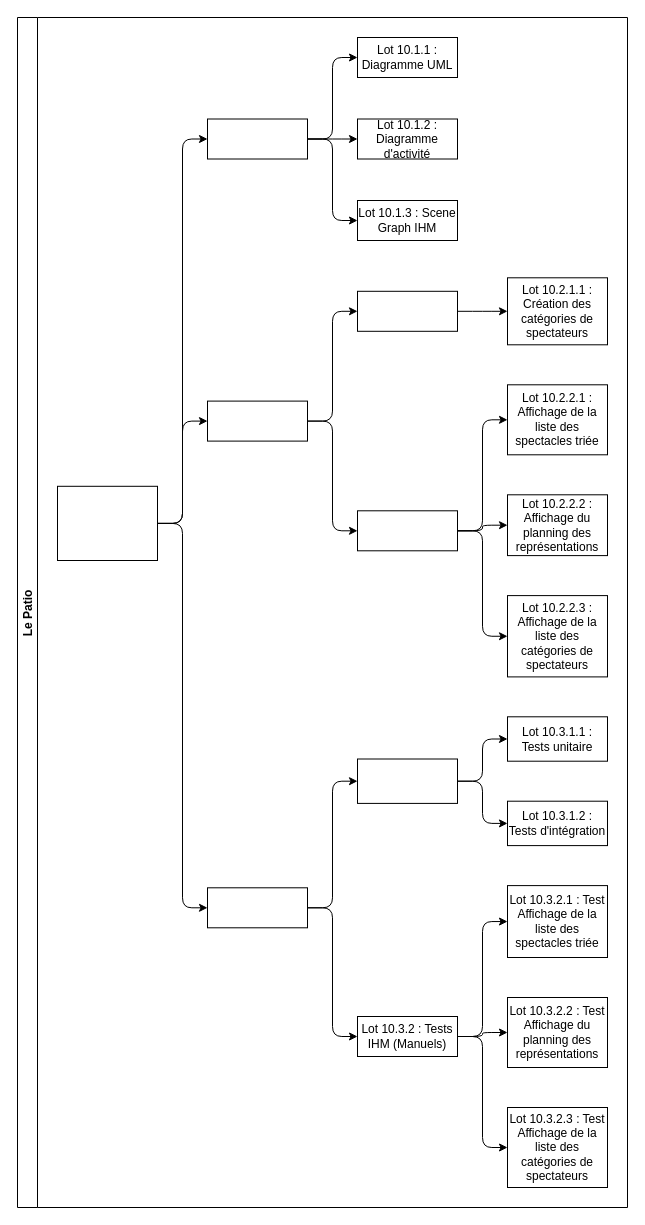
This 645x1225 diagram has some shape labels left out. Here are the shapes that lost their labels. From the top down, the box of each, then its label:
(206, 118, 308, 159): Lot 10.1 : Conception
(356, 290, 458, 331): Lot 10.2.1 : Classes Java
(206, 400, 308, 441): Lot 10.2 : Développement
(56, 485, 158, 560): Lot 10
(356, 510, 458, 551): Lot 10.2.2: IHM FXML
(356, 758, 458, 803): Lot 10.3.1 : Tests Spectateurs (Java)
(206, 887, 308, 928): Lot 10.3 : Recette
